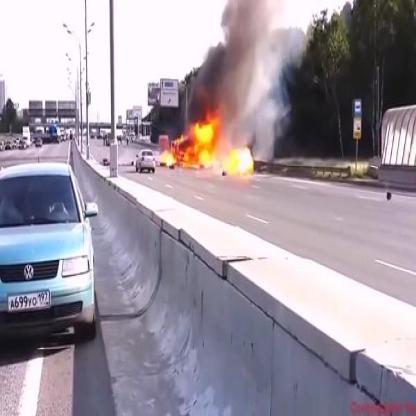fire: (154, 122, 256, 178)
